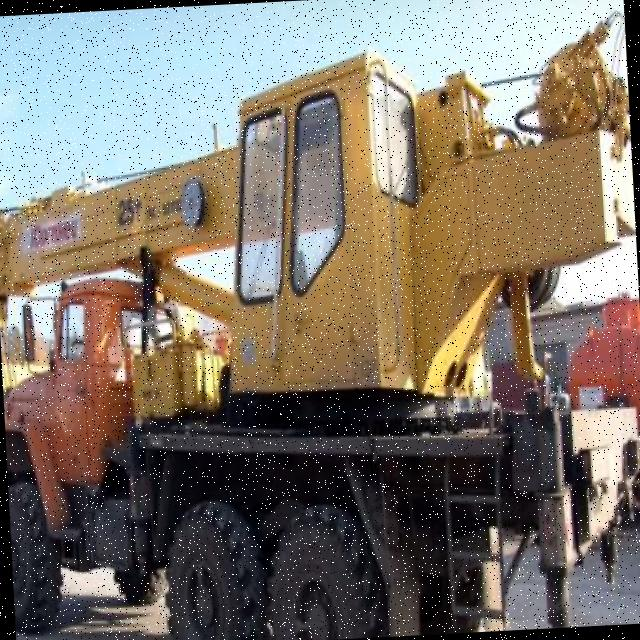Mobile Crane: (0, 34, 640, 640)
